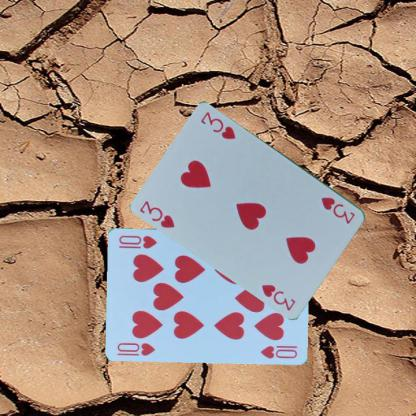10h: (115, 340, 157, 357)
3h: (137, 198, 177, 230), (319, 194, 356, 225)
